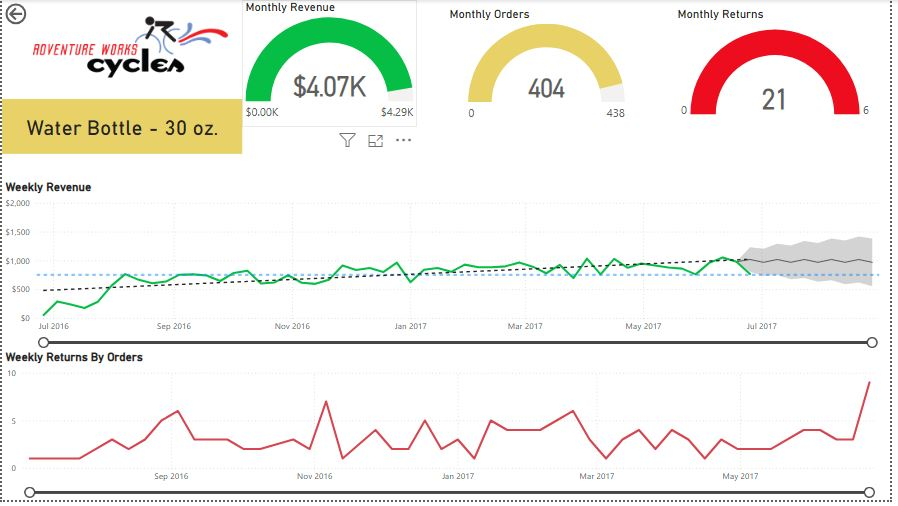

Layout of this report page (visuals, bound fields, positions):
{"tool":"powerbi","page":{"name":"Product Details","canvas":[1280,720],"ordinal":14},"visuals":[{"type":"lineChart","title":"Weekly Returns By Orders","fields":{"Y":["Returns Data.Total Returns"],"Category":["Calendar_Lookup.Start of Week"]},"box":[0,504,1280.2,216],"z":0},{"type":"lineChart","title":"Weekly Revenue","fields":{"Category":["Calendar_Lookup.Start of Week"],"Y":["sales data.Total Revenue"]},"box":[0,259.2,1280.2,244.8],"z":1000},{"type":"gauge","title":"Monthly Revenue","fields":{"Y":["sales data.Total Revenue"],"MaxValue":["sales data.Revenue Target"]},"box":[345.6,0,252,182.9],"z":2000},{"type":"gauge","title":"Monthly Returns","fields":{"Y":["Returns Data.Total Returns"],"MaxValue":["sales data.Prev Month Returns"]},"box":[967.7,10.1,290.9,172.8],"z":3000},{"type":"gauge","title":"Monthly Orders","fields":{"Y":["sales data.Total orders"],"MaxValue":["sales data.Order Target"]},"box":[639.4,10.1,289.4,172.8],"z":4000},{"type":"image","box":[44.6,21.6,283.7,92.2],"z":5000},{"type":"card","fields":{"Values":["Min(Products_Lookup.ProductName)"]},"box":[0,142.6,345.6,79.2],"z":6000},{"type":"actionButton","box":[0,0,100,40],"z":7000}]}

Visuals, with their boxes in screenshot pixels (x1, y1, x2, y2), scaled from the page's 1280x720 canvas onto the 898x506 screenshot:
"Weekly Returns By Orders" lineChart: bbox=[0, 354, 897, 505]
"Weekly Revenue" lineChart: bbox=[0, 182, 897, 354]
"Monthly Revenue" gauge: bbox=[242, 0, 419, 129]
"Monthly Returns" gauge: bbox=[679, 7, 883, 129]
"Monthly Orders" gauge: bbox=[449, 7, 652, 129]
image: bbox=[31, 15, 230, 80]
card - Min(Products_Lookup.ProductName): bbox=[0, 100, 242, 156]
actionButton: bbox=[0, 0, 70, 28]
